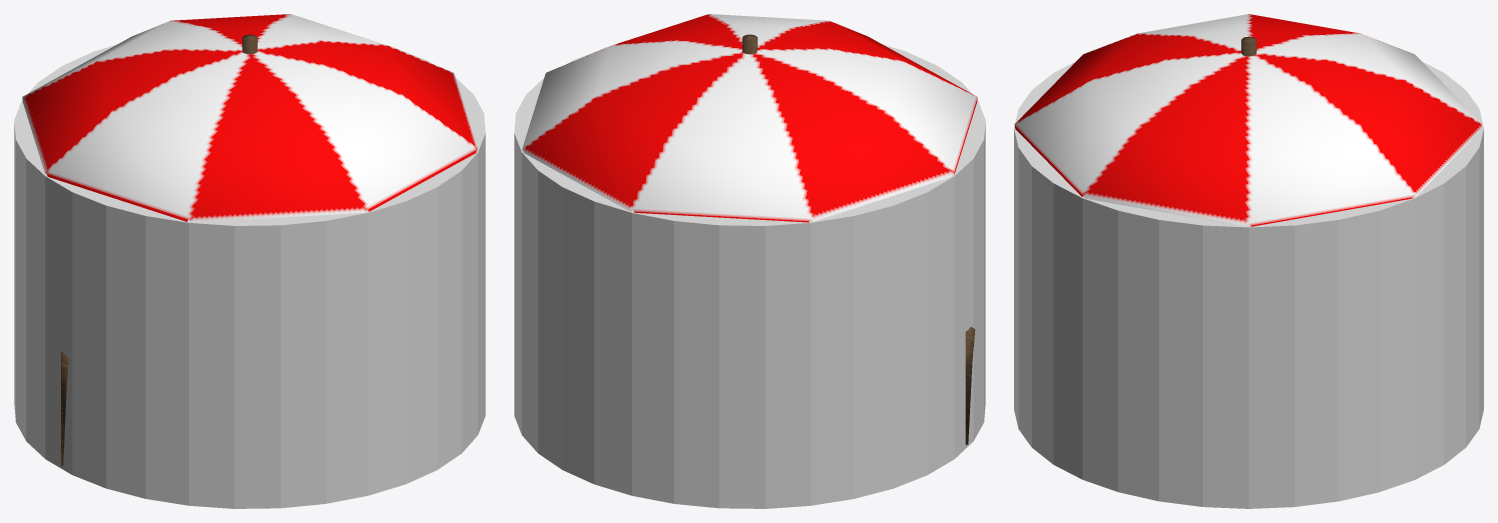
File: enemy1.gltf
3 renders of one model, left to right at view 1: azimuth 30°, elevation 25°; view 2: azimuth 150°, elevation 25°; view 3: azimuth 270°, elevation 25°, orthographic.
Parts seen in each view (by area): view 1: COL1, parasol, bench_03; view 2: COL1, parasol, bench_03; view 3: COL1, parasol.
Boxes of the visible parts, x1,y1,x2,y2 form: COL1: (14, 44, 485, 508); parasol: (22, 14, 477, 222); bench_03: (61, 351, 68, 465); COL1: (514, 44, 985, 508); parasol: (522, 14, 977, 222); bench_03: (965, 327, 975, 444); COL1: (1014, 62, 1483, 508); parasol: (1014, 14, 1483, 226).
Bounding box in the file's own units: 3.04 × 2.64 × 3.03.
Materials: 7 (5 with a texture image).
